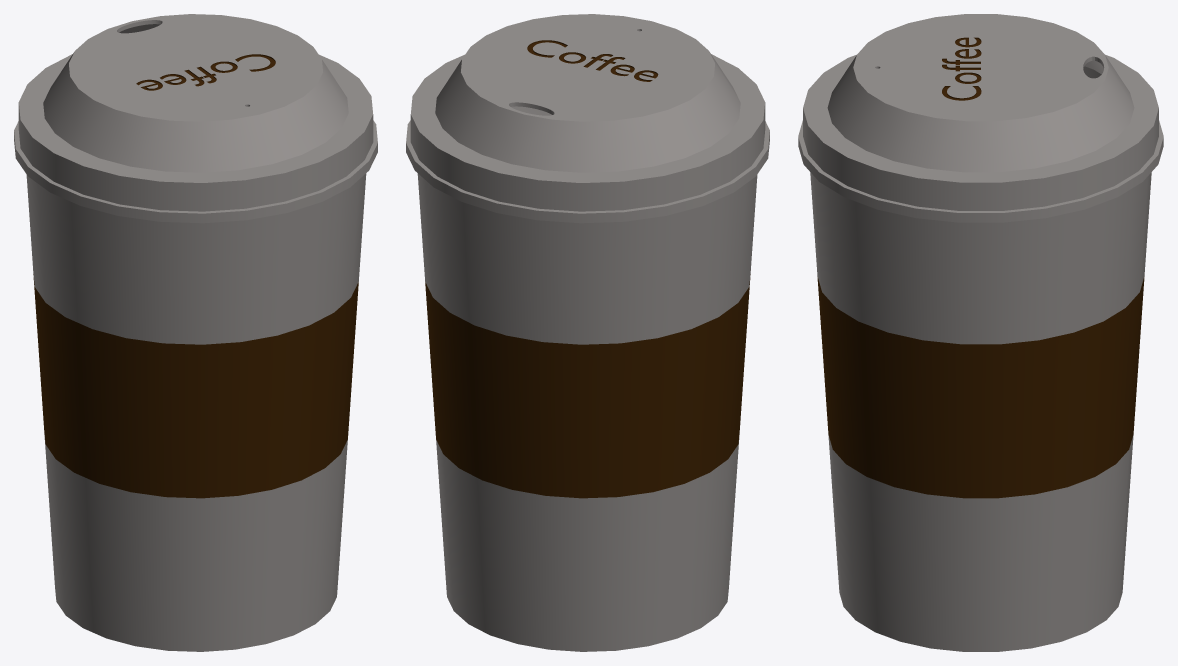
File: base_coffee_cup.glb
The picture shows the model from 3 angles, left to right: view 1: azimuth 30°, elevation 25°; view 2: azimuth 150°, elevation 25°; view 3: azimuth 270°, elevation 25°; orthographic projection.
Visible parts, largest first — view 1: Base, Cap; view 2: Base, Cap; view 3: Base, Cap.
Boxes of the visible parts, x1,y1,x2,y2 form: Base: (26, 173, 366, 651); Cap: (14, 14, 377, 223); Base: (417, 106, 757, 651); Cap: (406, 14, 769, 223); Base: (810, 66, 1151, 651); Cap: (798, 14, 1163, 222).
Bounding box in the file's own units: 2.33 × 3.73 × 2.35.
